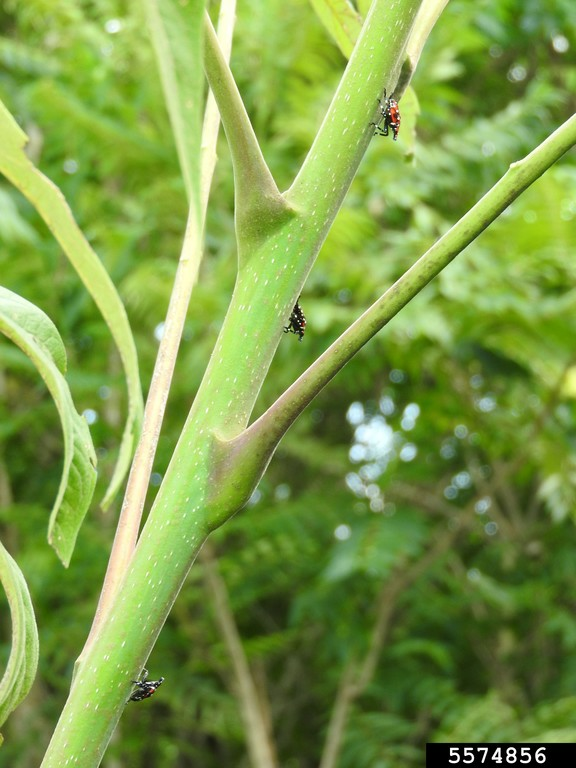instar nymph (4): (373, 87, 399, 139), (126, 672, 158, 701), (286, 301, 305, 334)
